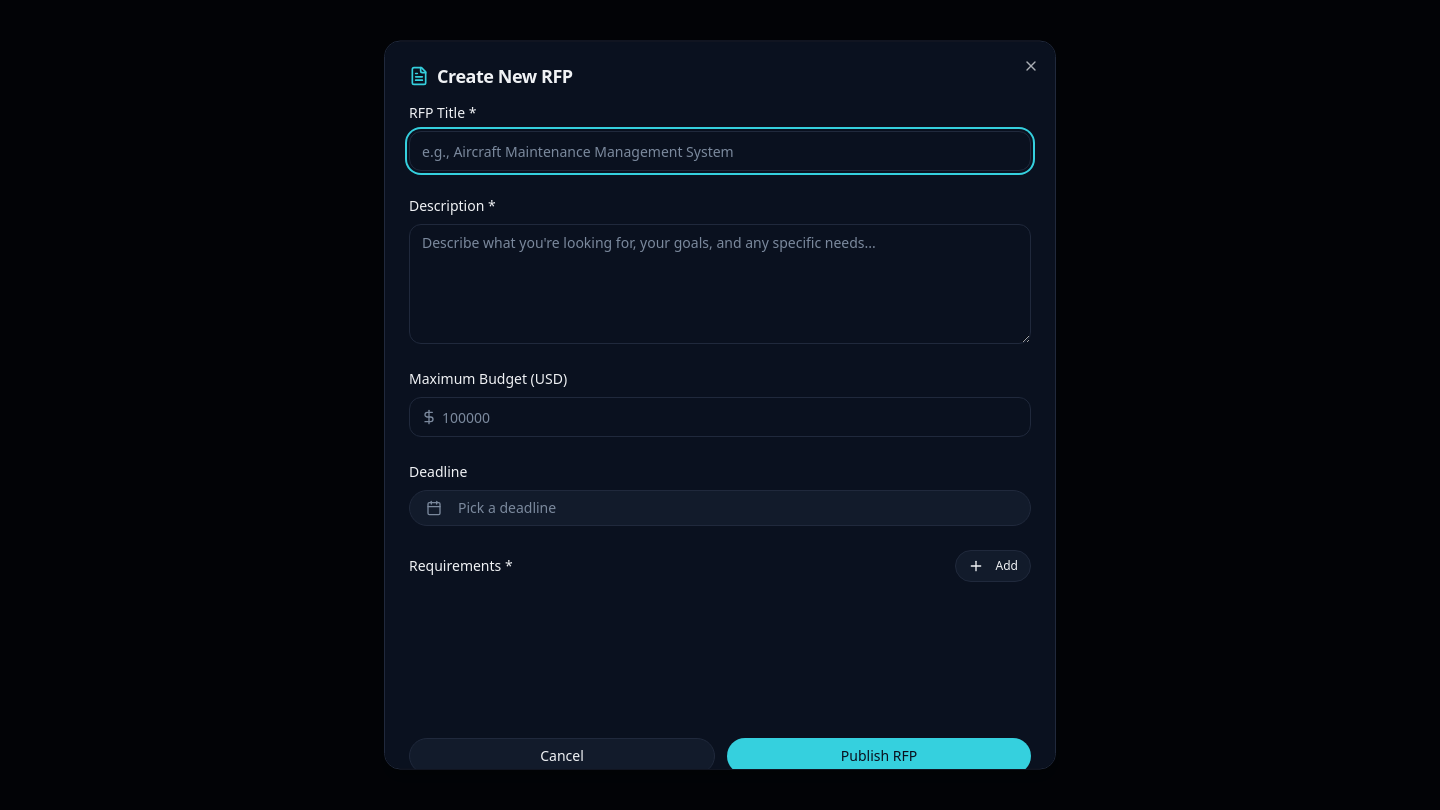
Test: CreateRFPForm › shows validation error for budget too low
The width and height of the screenshot is (1440, 810).
Type "Valid RFP Title" into the field labelled "RFP Title *" at (720,150), box [409,130,1031,170]
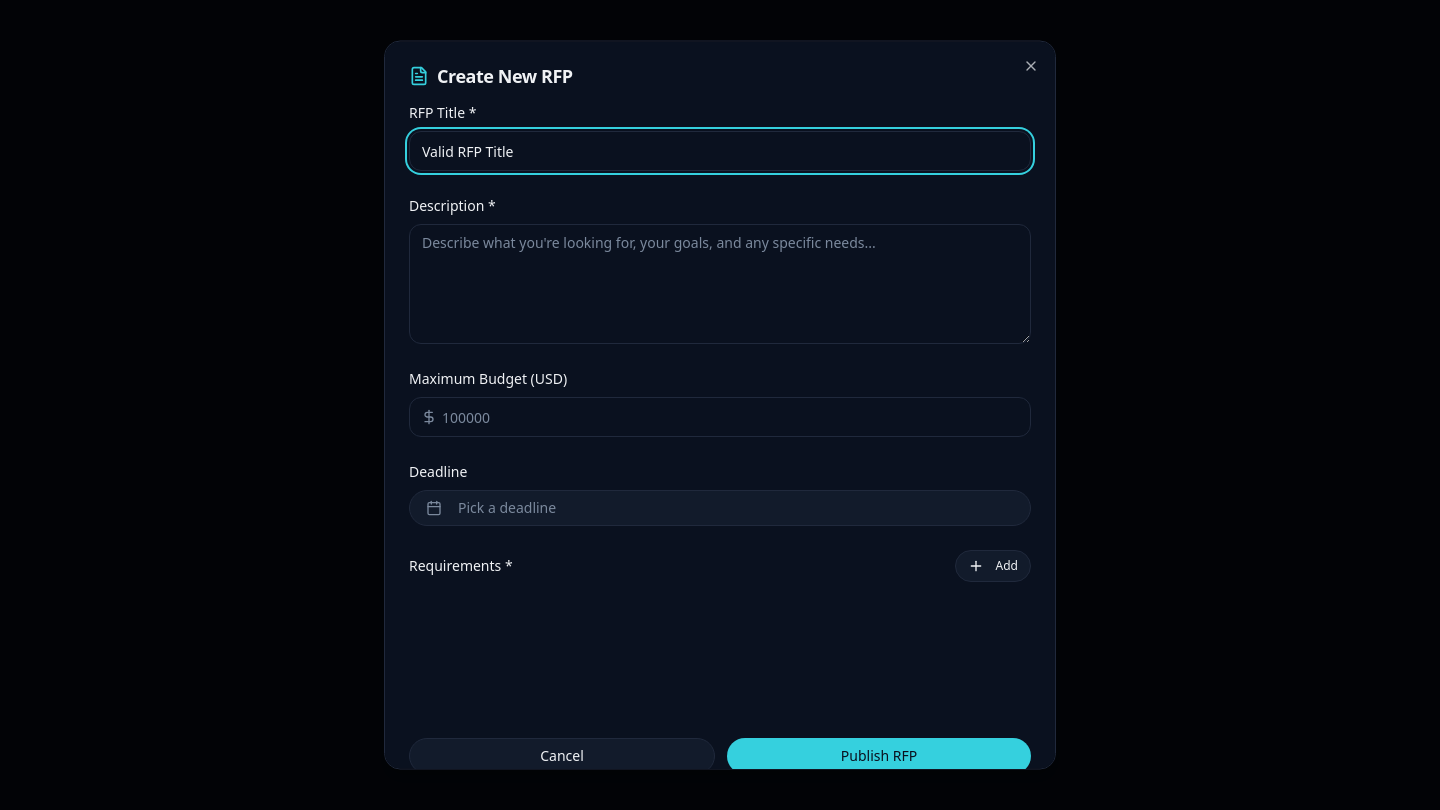
Replace the text in the text box labelled "Description *" with "This is a description that is long enough to pass validation." at (720,284), box [409,224,1031,344]
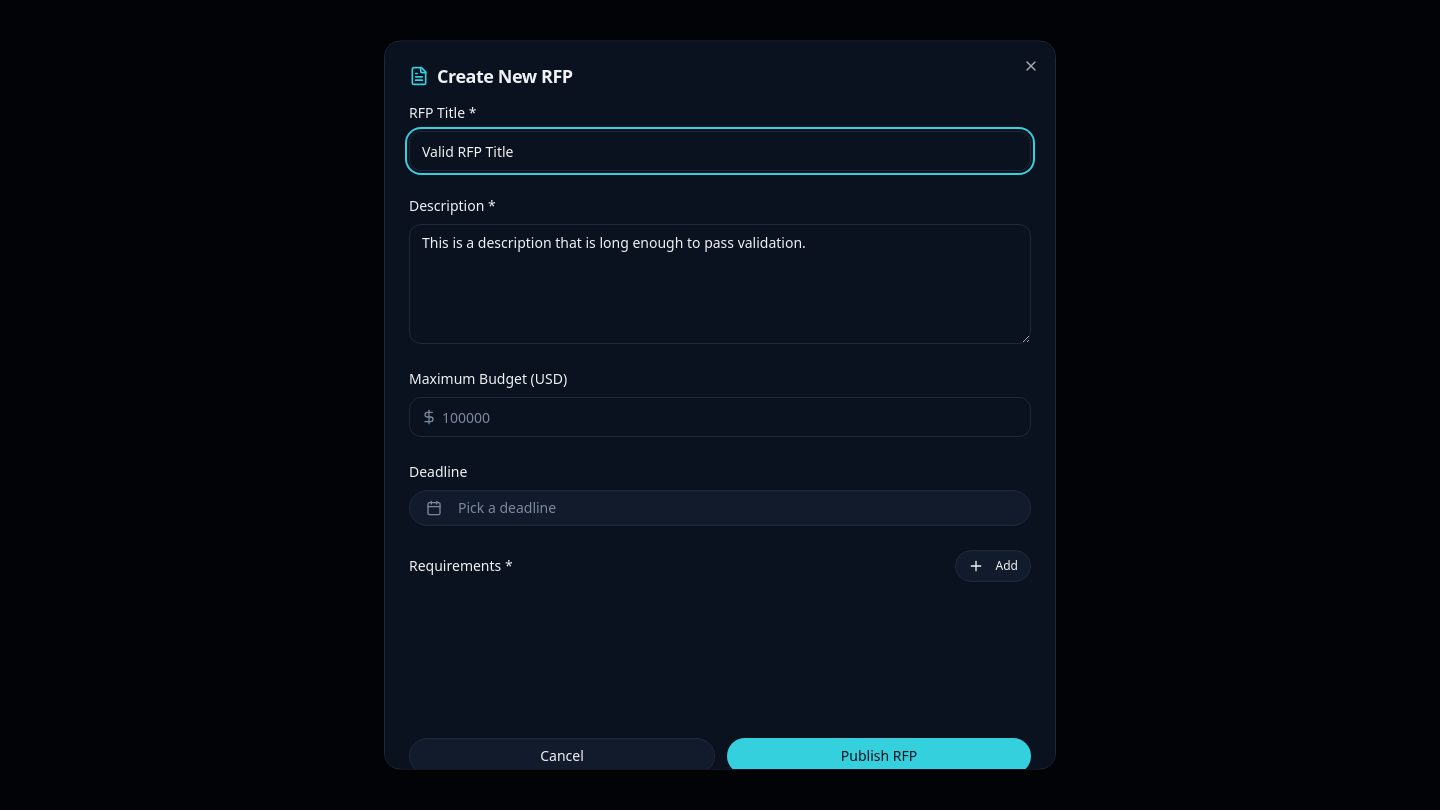
Type "500" into the number field labelled "Maximum Budget (USD)" at (720,416), box [409,396,1031,436]
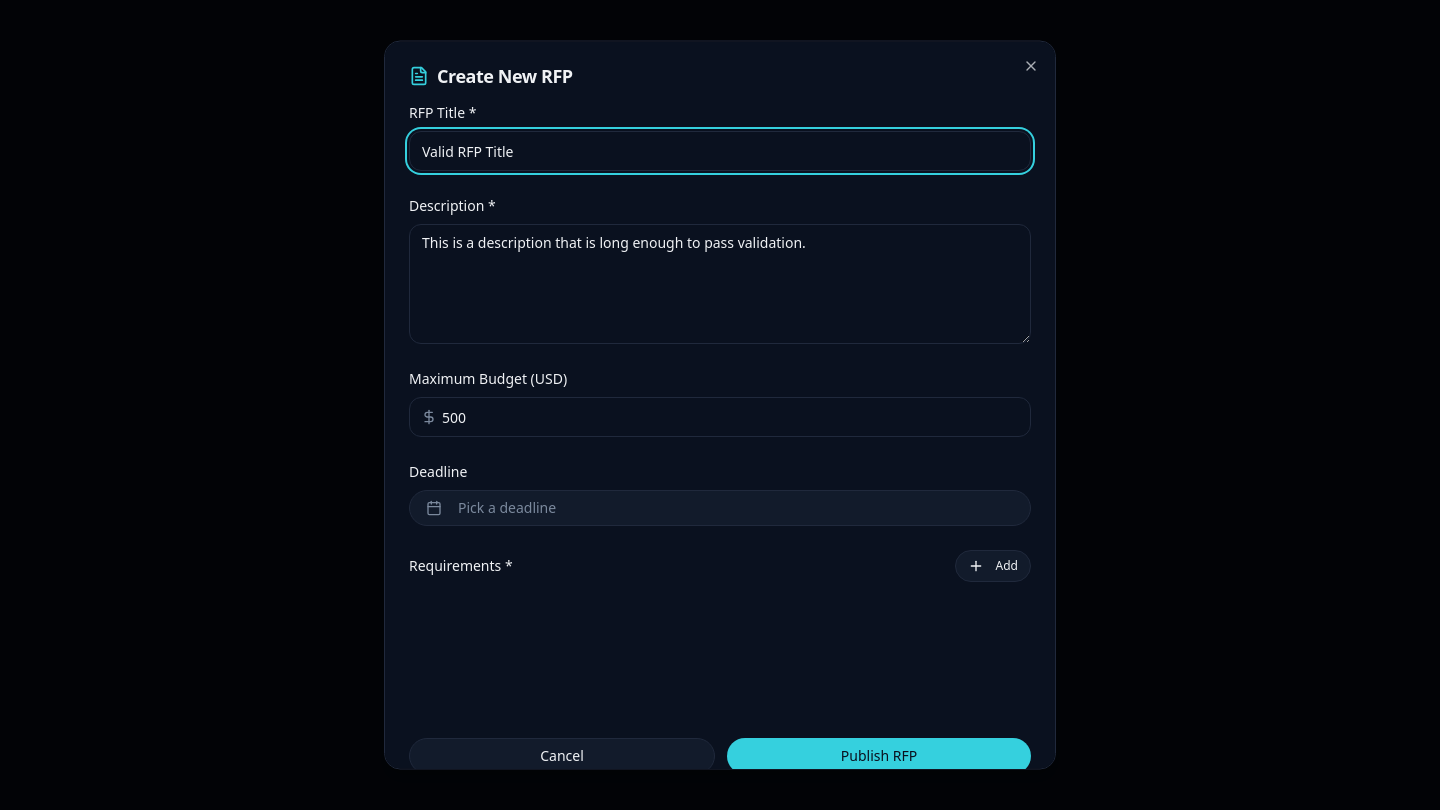
Submit the form, box [409,102,1031,774]
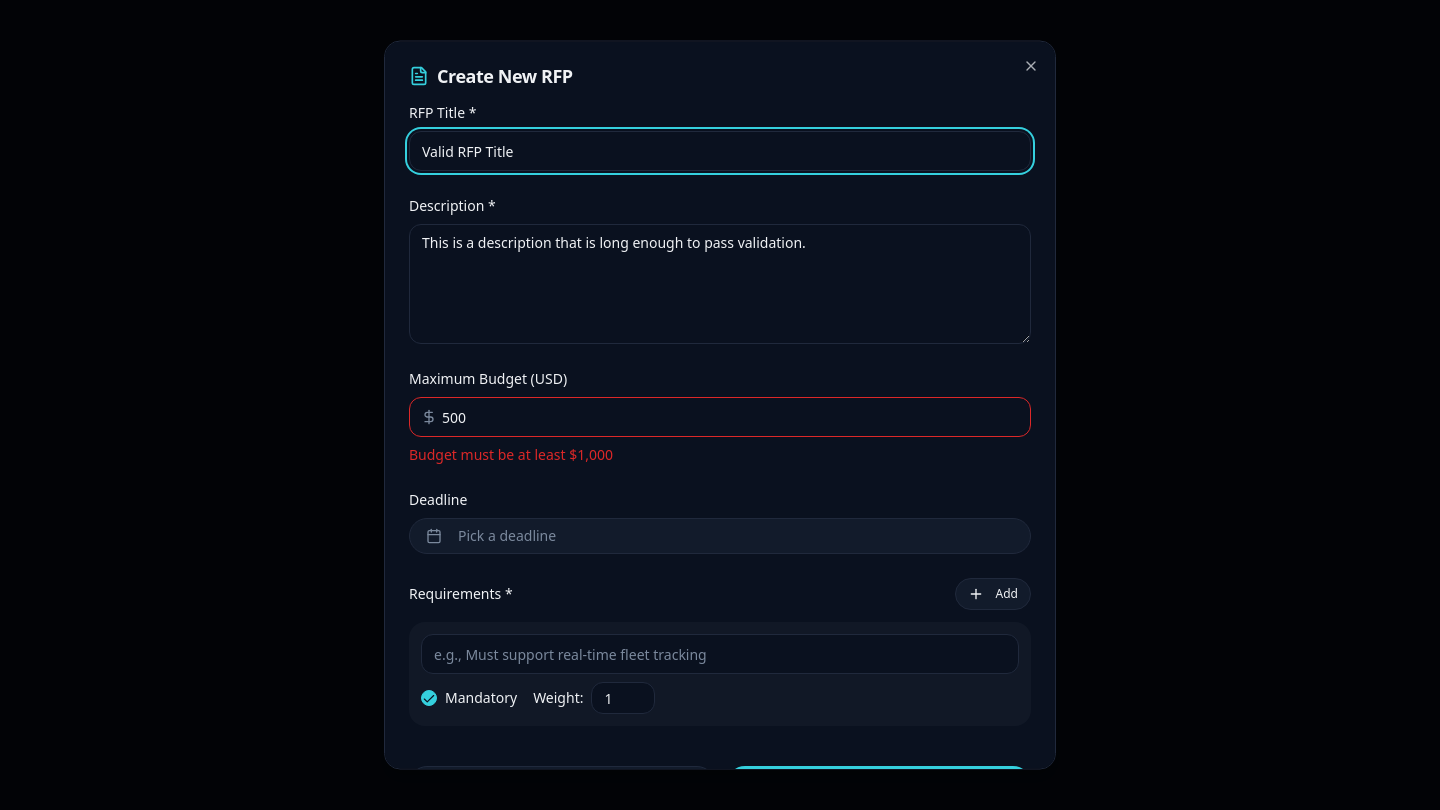
Expected: the text "Budget must be at least $1,000" is shown, [409,444,613,464]
